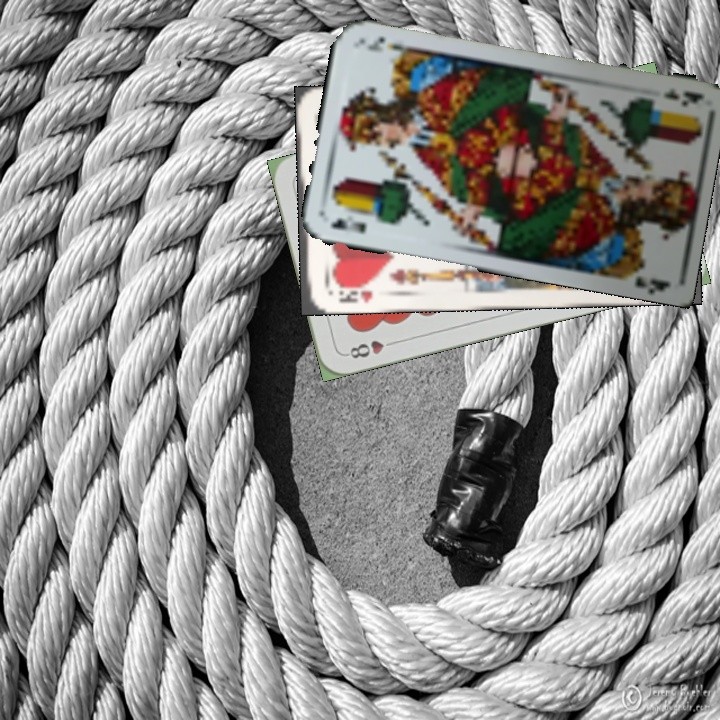EK: (659, 84, 703, 110), (328, 214, 369, 236)
H8: (342, 336, 400, 361)
HK: (332, 278, 378, 305)
